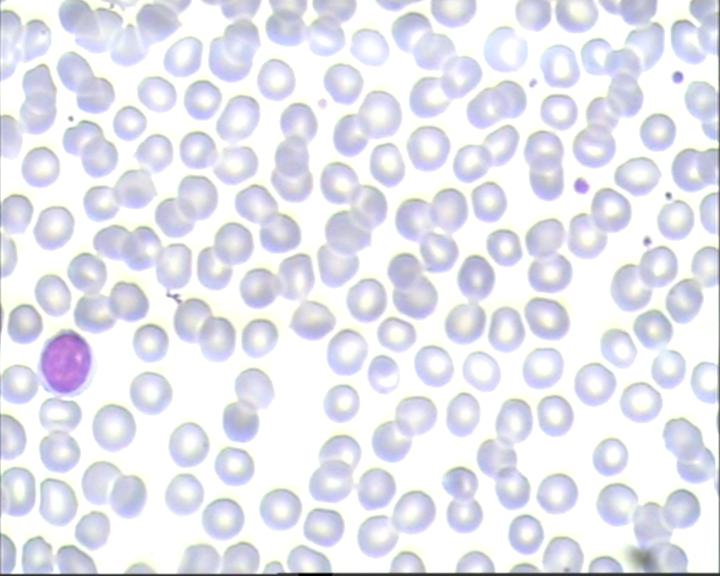lymp: (32, 325, 98, 395)
